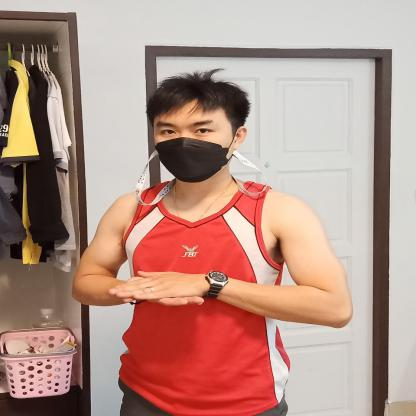Love: (86, 248, 282, 324)
